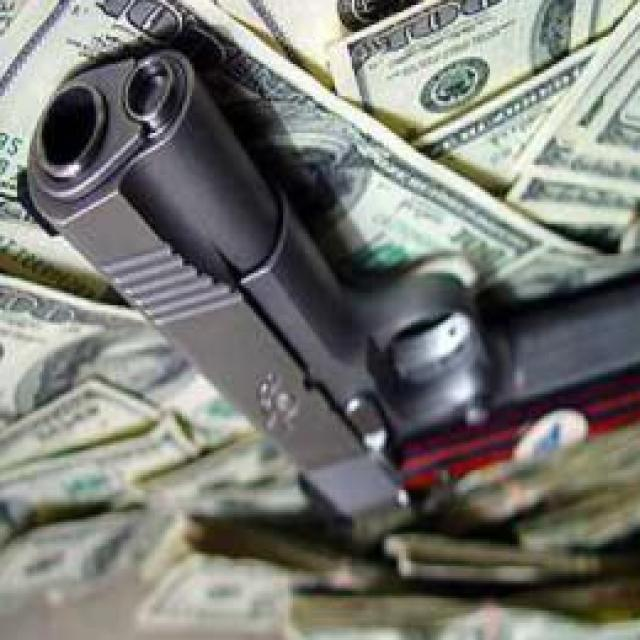pistol: (12, 64, 640, 529)
